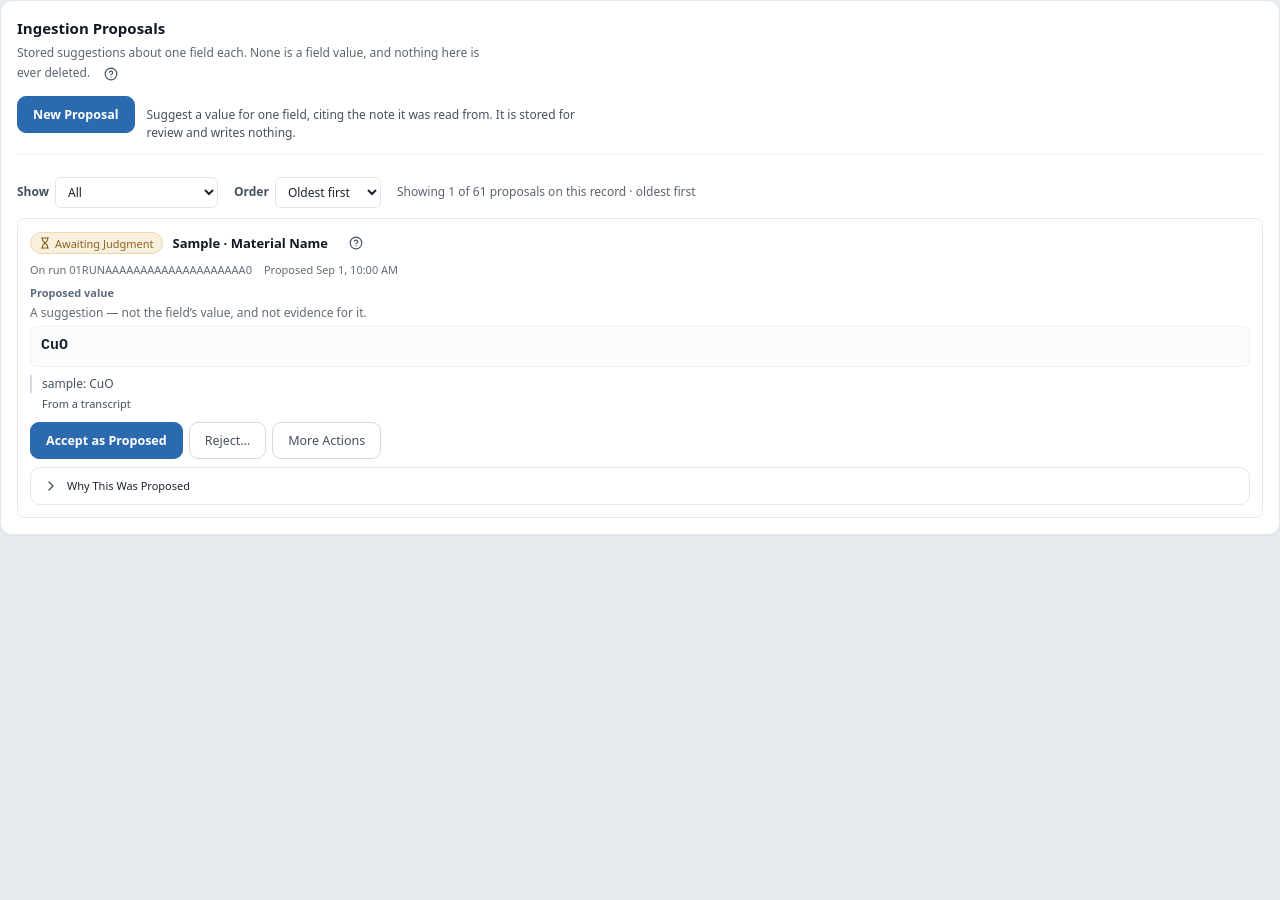
it: the order control › an order change whose read FAILS leaves the line describing the last window that loaded
Check: the text "Showing 1 of 61 proposals on this record · oldest first" is shown, box [397,184,696,202]
Select "Newest first" in the dropdown labelled "Order": (328, 193) [275,177,381,208]
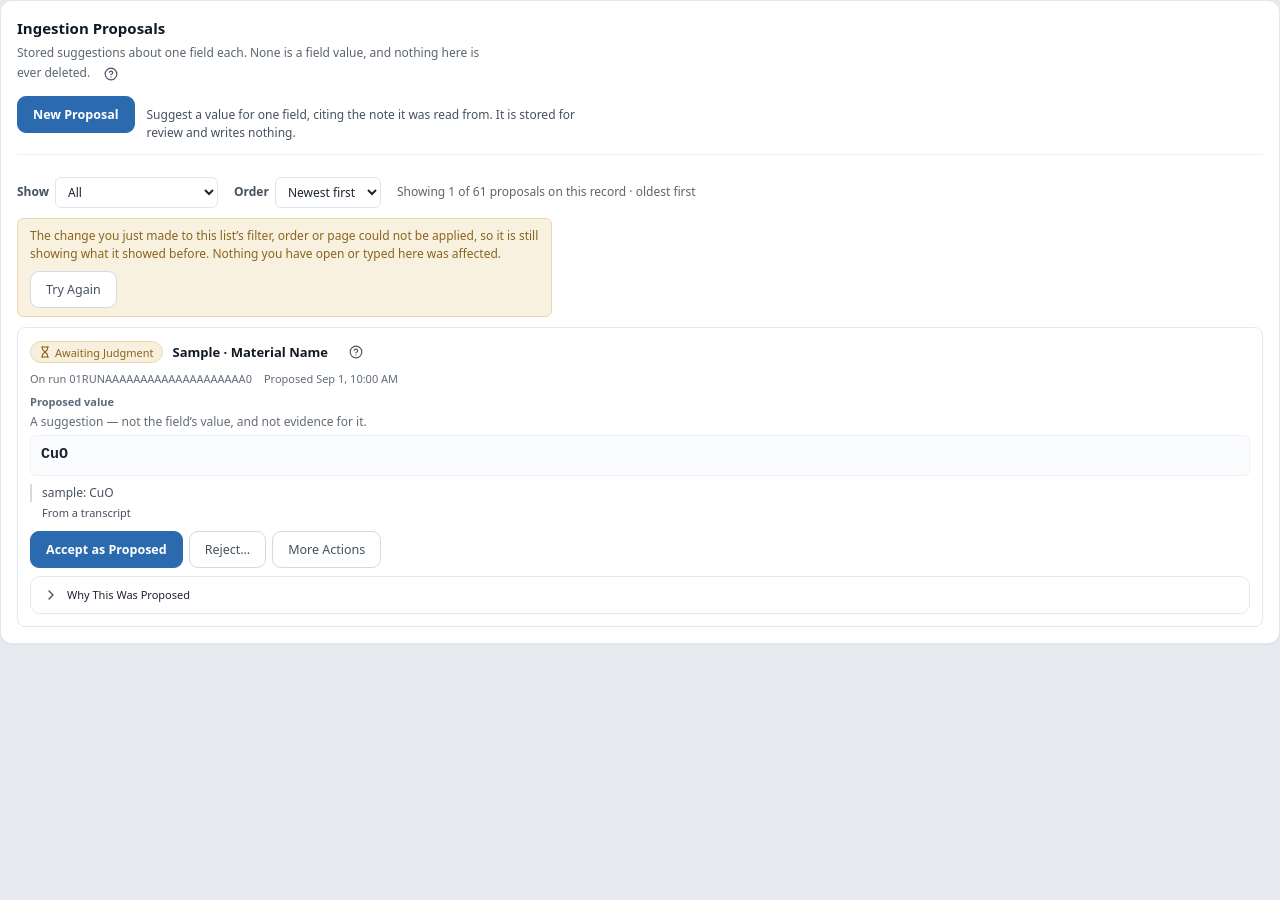
Check: the text "Showing 1 of 61 proposals on this record · oldest first" is shown, box [397,184,696,202]
Check: the text "could not be applied, so it is still showing what it showed before" is shown, box [30,227,538,262]
